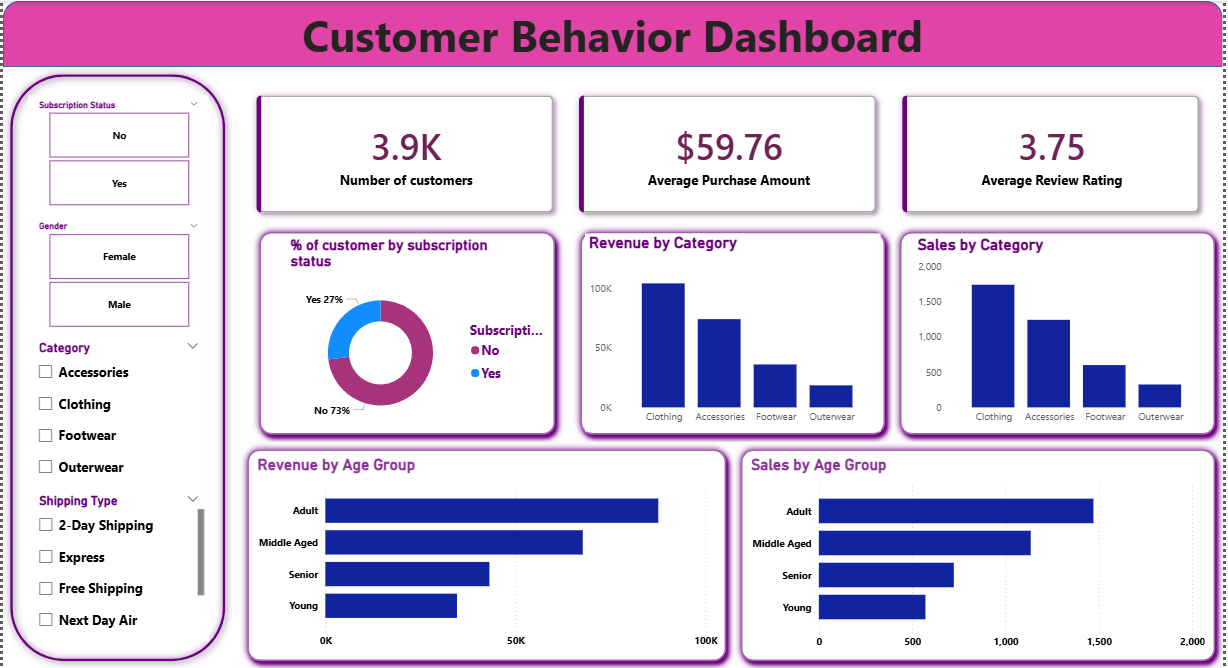

What the dashboard file says about the page in this screenshot:
{"tool":"powerbi","page":{"name":"Page 1","canvas":[1500,820],"ordinal":0},"visuals":[{"type":"cardVisual","fields":{"Data":["public customer.Number of customers","public customer.Average Purchase Amount","public customer.Average Review Rating"]},"box":[282.2,86.7,1217.1,202.9],"z":0},{"type":"shape","box":[0,0,1499.3,81.1],"z":1000},{"type":"textbox","box":[0,0,1499.3,81.1],"z":2000},{"type":"shape","box":[306.1,274.8,381.7,267.4],"z":3000},{"type":"donutChart","title":"% of customer by subscription status","fields":{"Category":["public customer.Subscription Status"],"Y":["CountNonNull(public customer.Customer ID)"]},"box":[348.5,289.5,339.3,241.6],"z":4000},{"type":"shape","box":[1093.6,274.8,405.7,267.4],"z":5000},{"type":"shape","box":[700.8,274.8,392.8,267.4],"z":6000},{"type":"clusteredColumnChart","title":"Revenue by Category","fields":{"Y":["Sum(public customer.Purchase Amount (USD))"],"Category":["public customer.Category"]},"box":[715.5,285.8,363.3,243.4],"z":7000},{"type":"clusteredColumnChart","title":"Sales by Category","fields":{"Y":["CountNonNull(public customer.Customer ID)"],"Category":["public customer.Category"]},"box":[1119.4,287.7,363.3,241.6],"z":8000},{"type":"shape","box":[0,81.1,282.2,739.5],"z":9000},{"type":"slicer","fields":{"Values":["public customer.Subscription Status"]},"box":[31.4,116.2,221.3,142],"z":9001},{"type":"slicer","fields":{"Values":["public customer.Gender"]},"box":[31.4,265.6,221.3,142],"z":9002},{"type":"slicer","fields":{"Values":["public customer.Category"]},"box":[31.4,411.2,221.3,188.1],"z":9003},{"type":"slicer","fields":{"Values":["public customer.Shipping Type"]},"box":[31.4,599.3,221.3,188.1],"z":9004},{"type":"shape","box":[291.4,542.2,606.7,278.5],"z":9006},{"type":"shape","box":[898.1,542.2,601.2,278.5],"z":9007},{"type":"clusteredBarChart","title":"Sales by Age Group","fields":{"Y":["CountNonNull(public customer.Customer ID)"],"Category":["public customer.Age Group"]},"box":[914.7,558.8,568,247.1],"z":9008},{"type":"clusteredBarChart","title":"Revenue by Age Group","fields":{"Y":["Sum(public customer.Purchase Amount (USD))"],"Category":["public customer.Age Group"]},"box":[308,558.8,575.4,245.3],"z":9009}]}

Visuals, with their boxes in screenshot pixels (x1, y1, x2, y2), scaled from the page's 1500x820 canvas onto the 1228x668 screenshot:
cardVisual - public customer.Number of customers x public customer.Average Purchase Amount: bbox=[231, 71, 1227, 236]
shape: bbox=[0, 0, 1227, 66]
textbox: bbox=[0, 0, 1227, 66]
shape: bbox=[251, 224, 563, 442]
"% of customer by subscription status" donutChart: bbox=[285, 236, 563, 433]
shape: bbox=[895, 224, 1227, 442]
shape: bbox=[574, 224, 895, 442]
"Revenue by Category" clusteredColumnChart: bbox=[586, 233, 883, 431]
"Sales by Category" clusteredColumnChart: bbox=[916, 234, 1214, 431]
shape: bbox=[0, 66, 231, 667]
slicer - public customer.Subscription Status: bbox=[26, 95, 207, 210]
slicer - public customer.Gender: bbox=[26, 216, 207, 332]
slicer - public customer.Category: bbox=[26, 335, 207, 488]
slicer - public customer.Shipping Type: bbox=[26, 488, 207, 641]
shape: bbox=[239, 442, 735, 667]
shape: bbox=[735, 442, 1227, 667]
"Sales by Age Group" clusteredBarChart: bbox=[749, 455, 1214, 657]
"Revenue by Age Group" clusteredBarChart: bbox=[252, 455, 723, 655]
